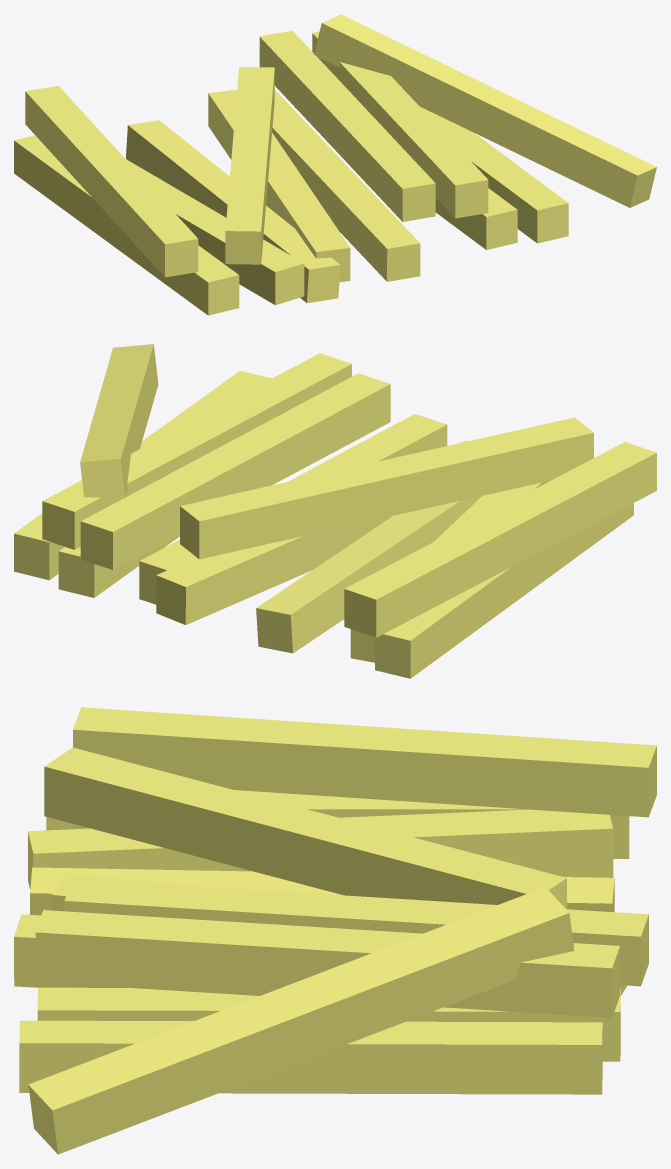
File: CutPotatoFries.fbx
3 renders of one model, top to bottom at view 1: azimuth 30°, elevation 25°; view 2: azimuth 150°, elevation 25°; view 3: azimuth 270°, elevation 25°, orthographic. The views are drawn at different scales.
Visible parts, largest first — view 1: Fries; view 2: Fries; view 3: Fries.
Part boxes in pixels (bbox=[...]): Fries: bbox=[14, 14, 656, 315]; Fries: bbox=[14, 344, 656, 678]; Fries: bbox=[14, 707, 656, 1154].
Size of the model in its own units: 29.53 by 6.58 by 22.73.
